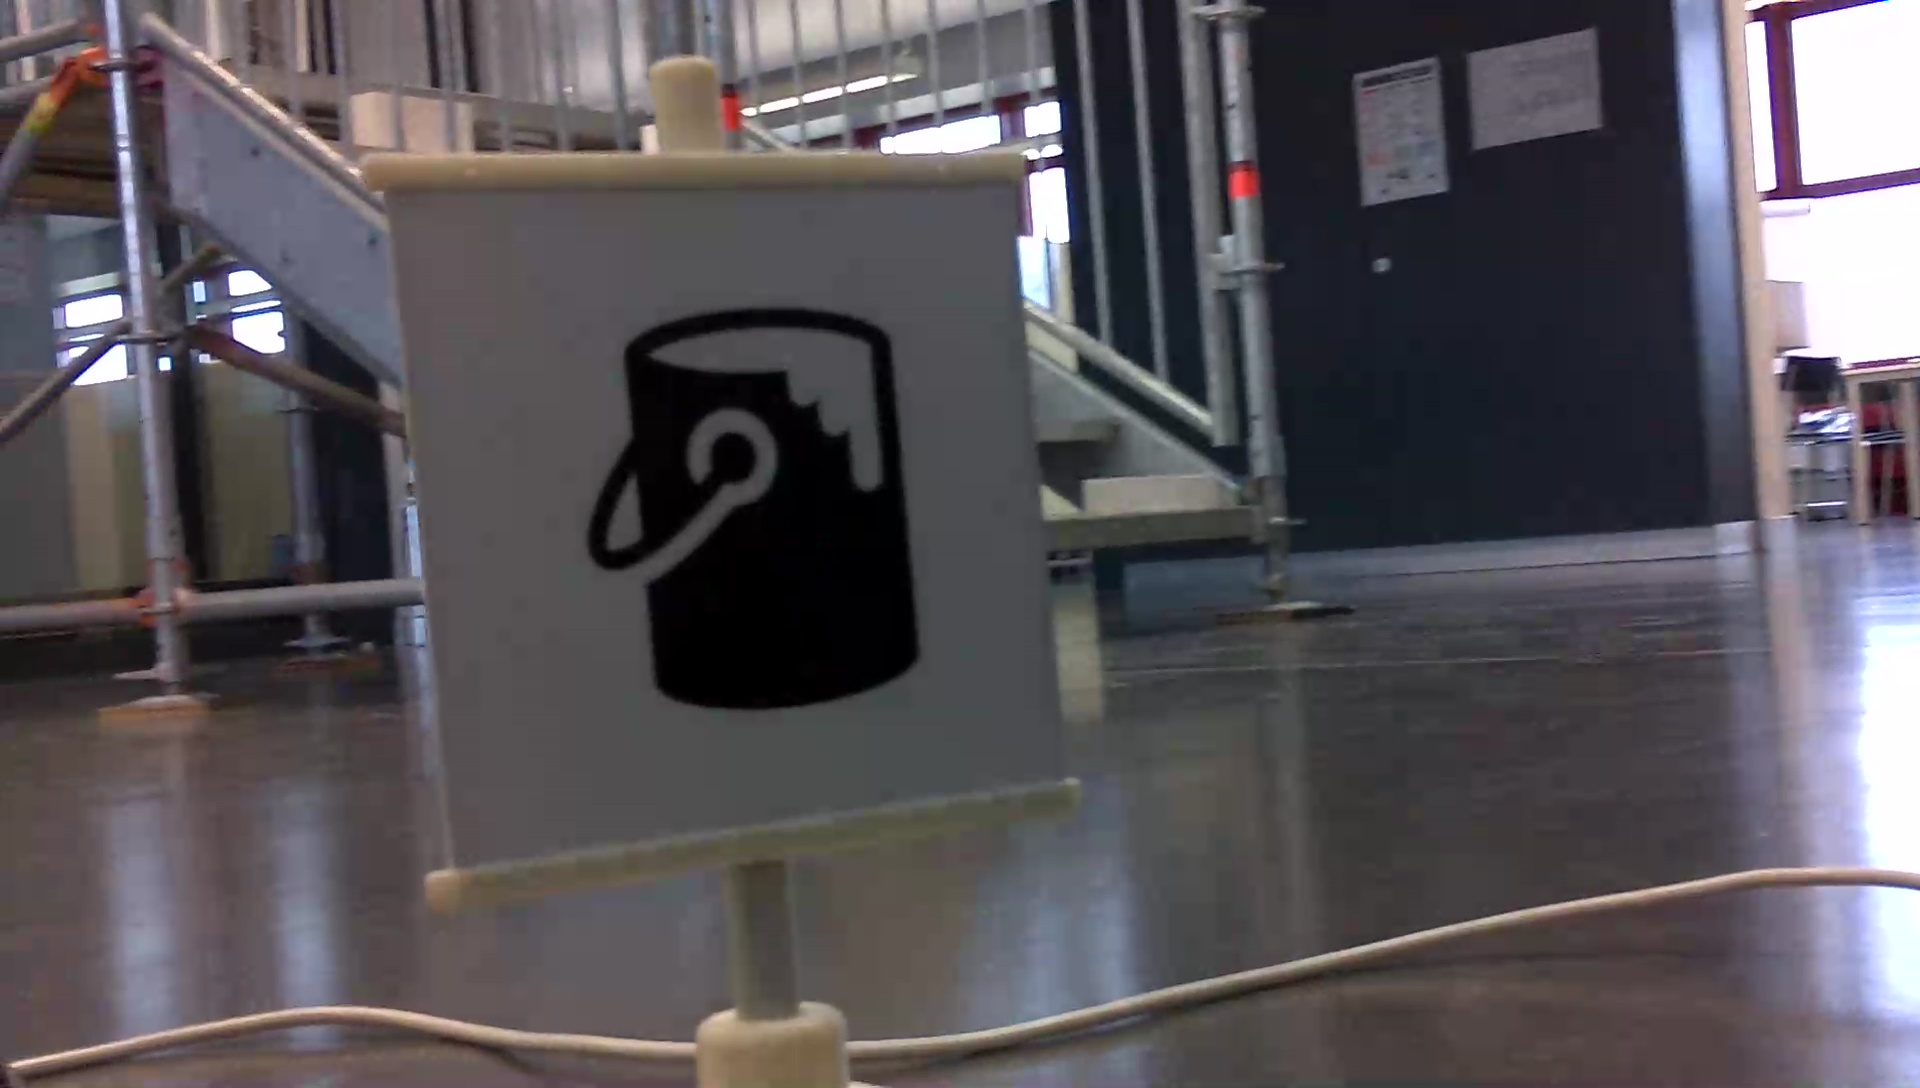brick: (1083, 475, 1216, 510)
bucket: (574, 295, 934, 721)
